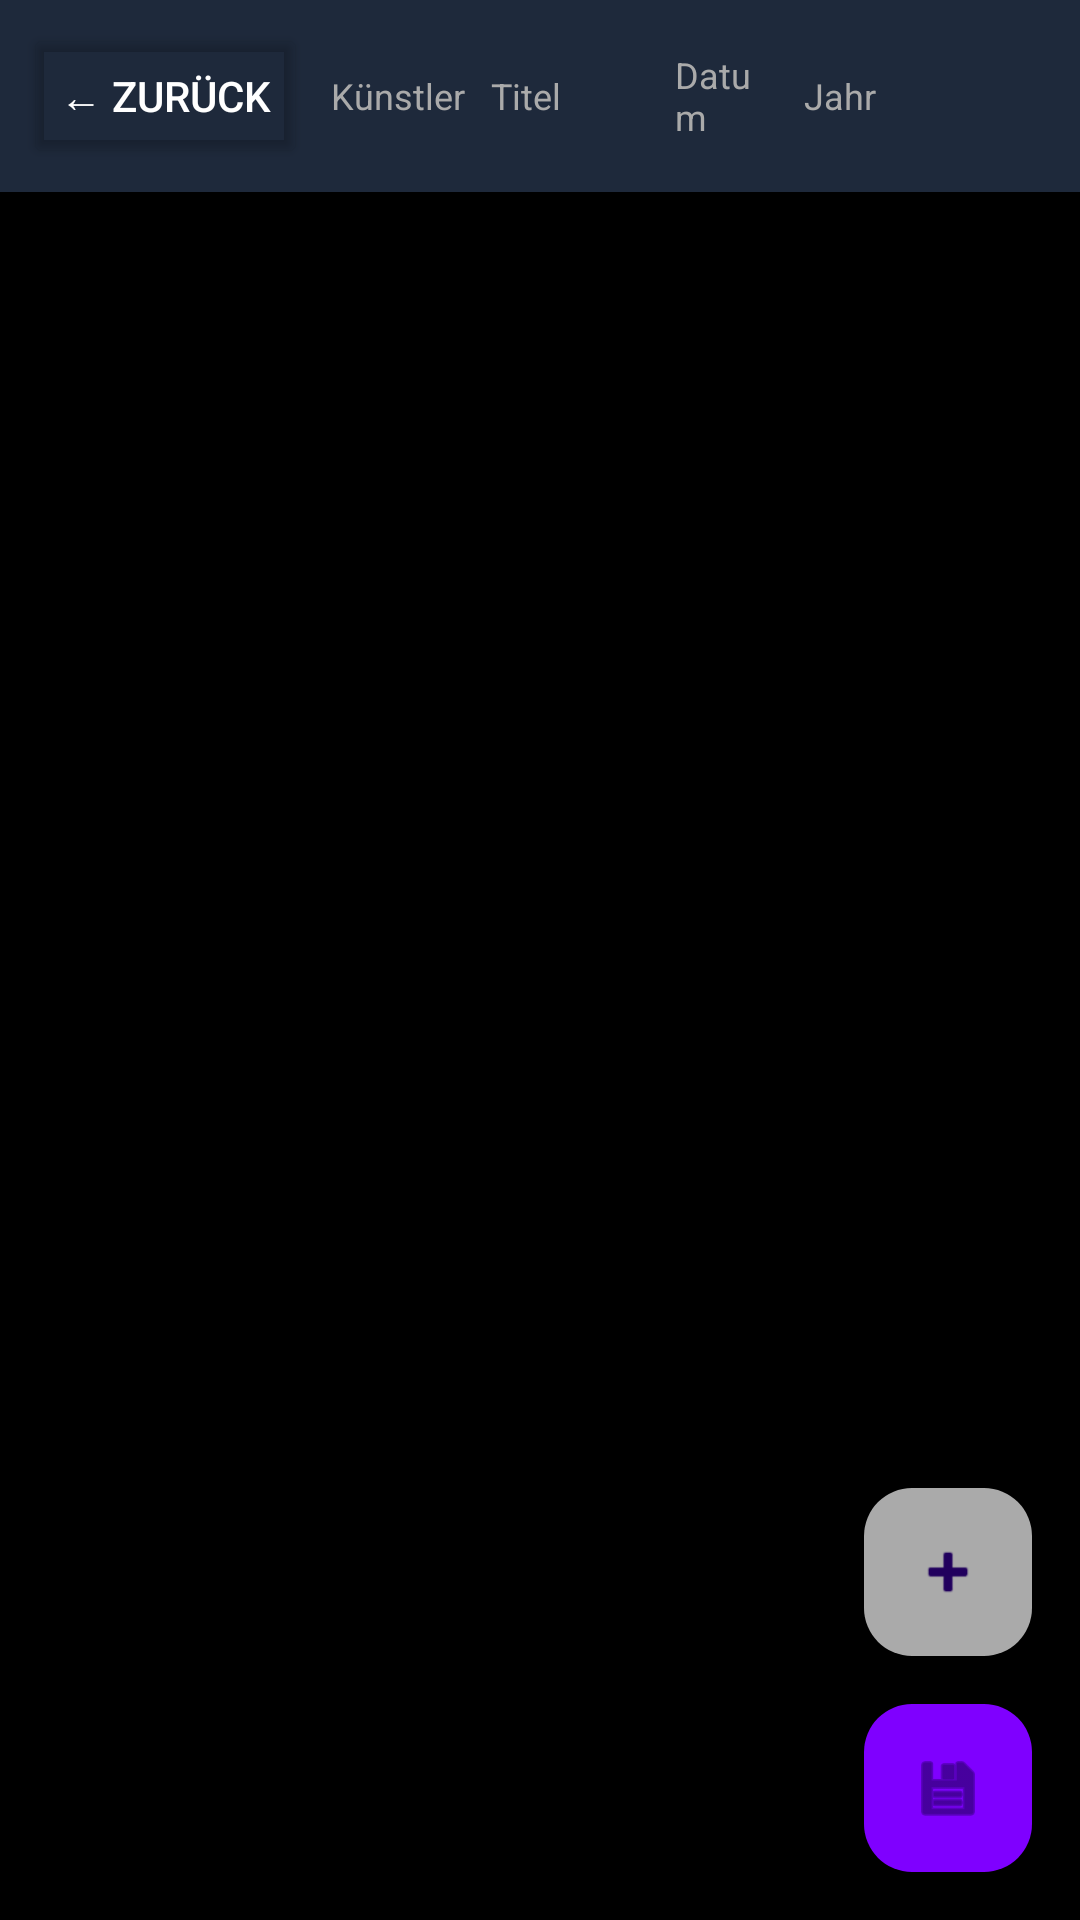

Screen size 1080×1920. Icon name, then its center in pixels as (x,y):
add: (948,1572)
save: (948,1788)
